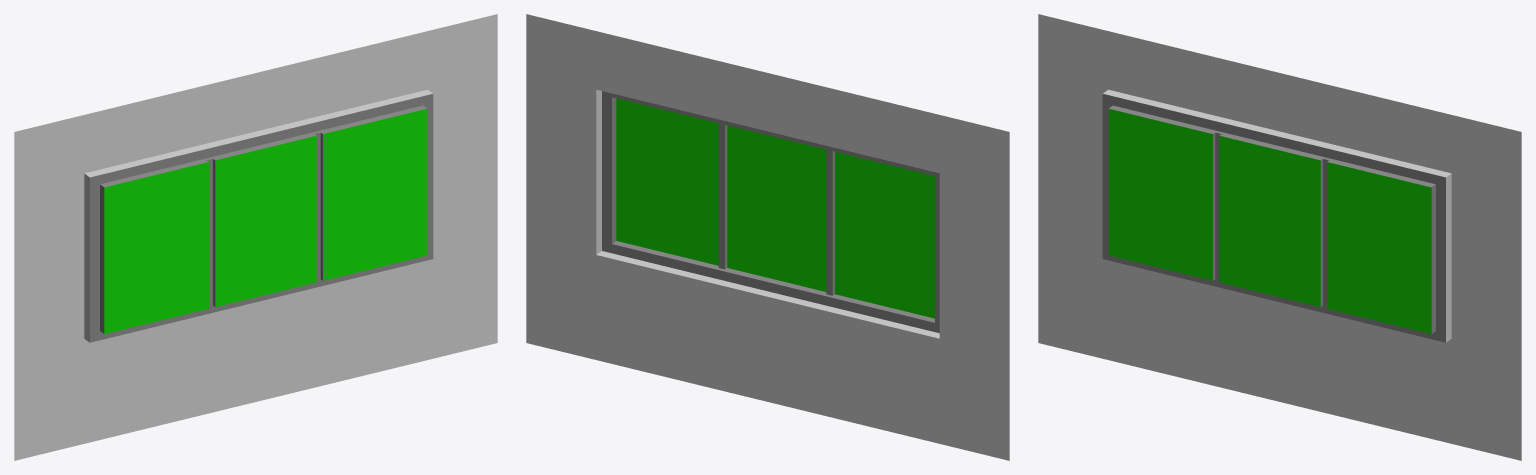
The model's file is Wall03_4m.fbx.
The picture shows the model from 3 angles, left to right: view 1: azimuth 30°, elevation 25°; view 2: azimuth 150°, elevation 25°; view 3: azimuth 330°, elevation 25°; orthographic projection.
Parts seen in each view (by area): view 1: Wall03_4m; view 2: Wall03_4m; view 3: Wall03_4m.
Boxes of the visible parts, x1,y1,x2,y2 form: Wall03_4m: [14, 14, 497, 460]; Wall03_4m: [526, 14, 1009, 460]; Wall03_4m: [1038, 14, 1521, 460].
Bounding box in the file's own units: 4 × 2.6 × 0.1425.
